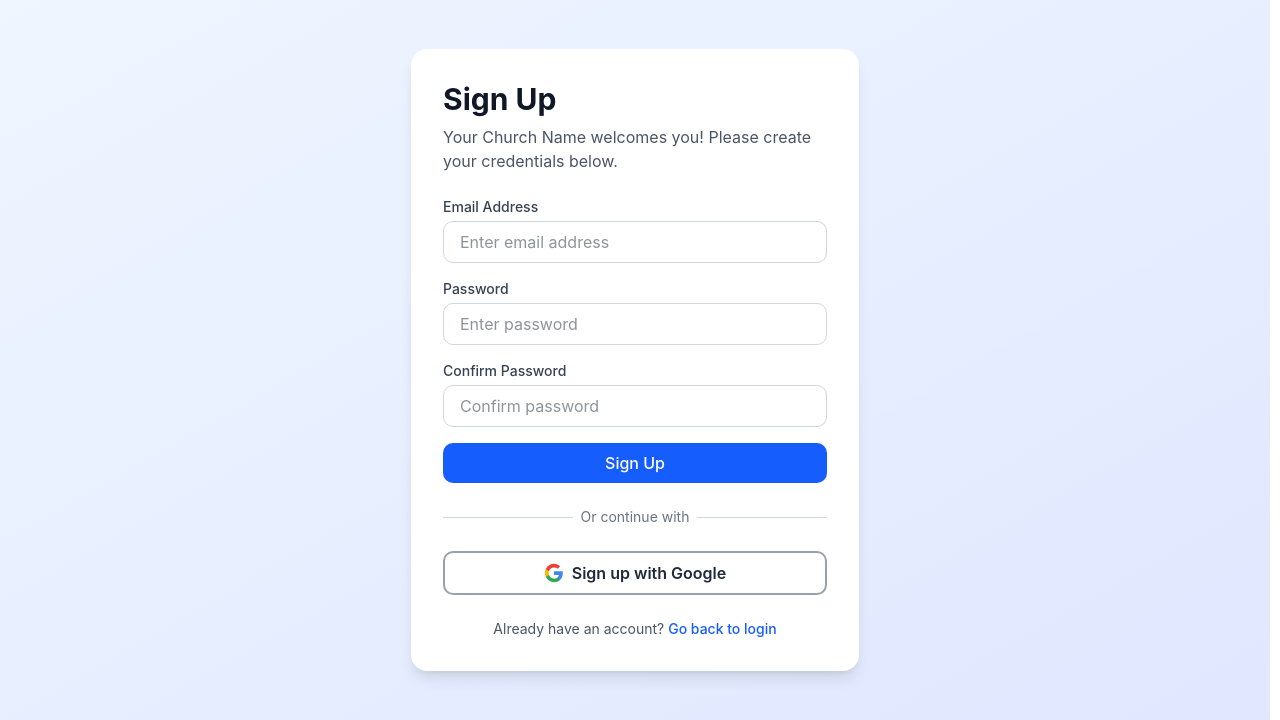
Signup page › verifies validation message when passwords do not match
The width and height of the screenshot is (1280, 720).
Step 1. Type "test@example.com" into the field with placeholder "Enter email address" → (635, 242), box [443,221,827,263]
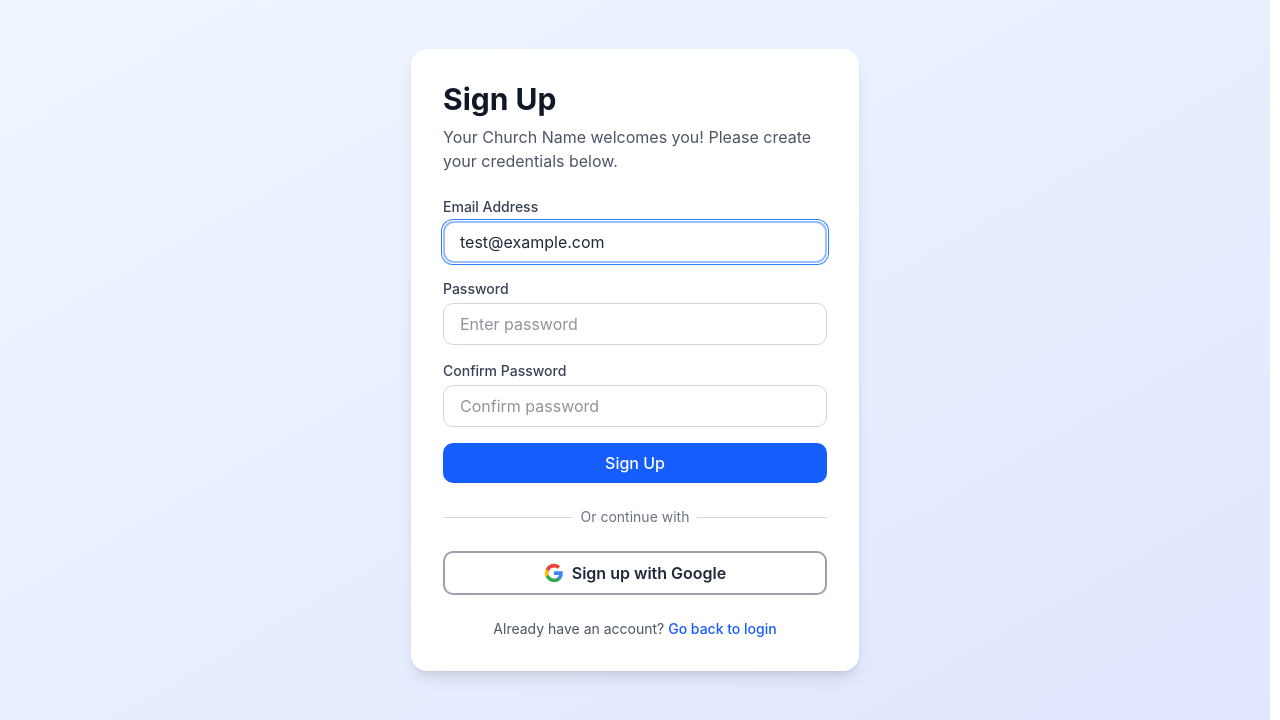
Step 2. Type "Potato123!" into the password field with placeholder "Enter password" → (635, 324), box [443,303,827,345]
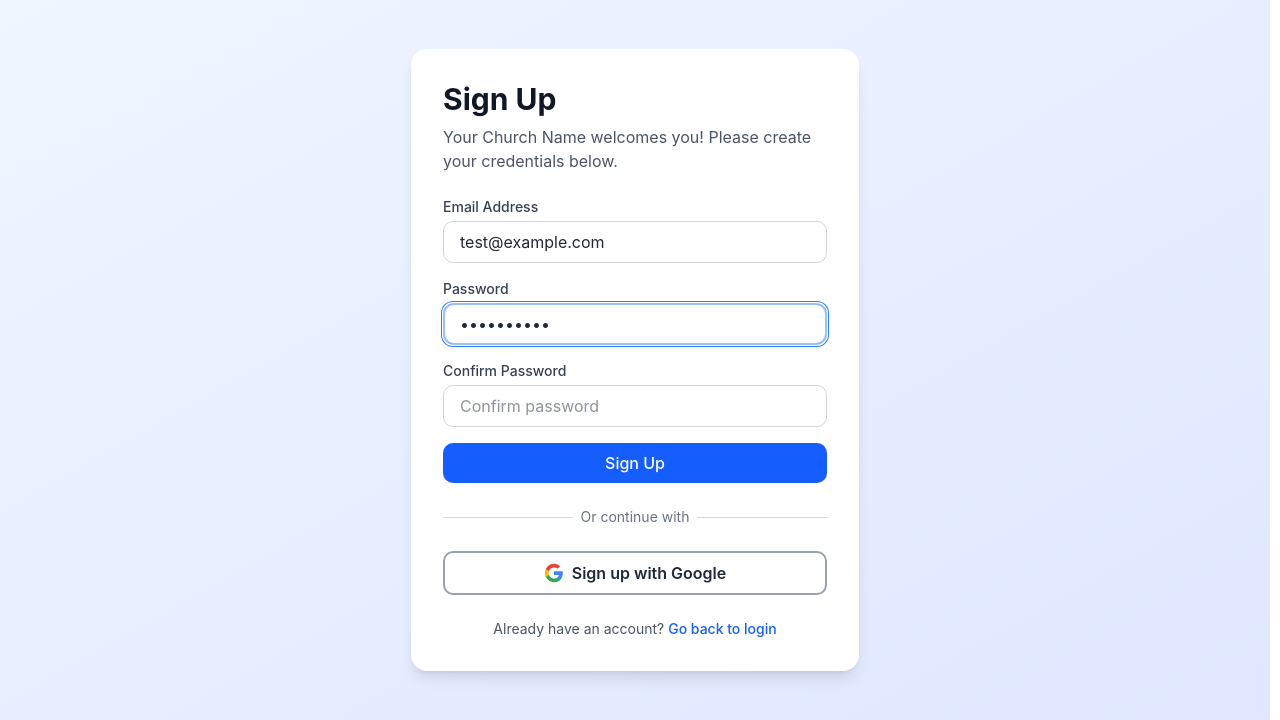
Step 3. Type "Different123!" into the password field with placeholder "Confirm password" → (635, 406), box [443,385,827,427]
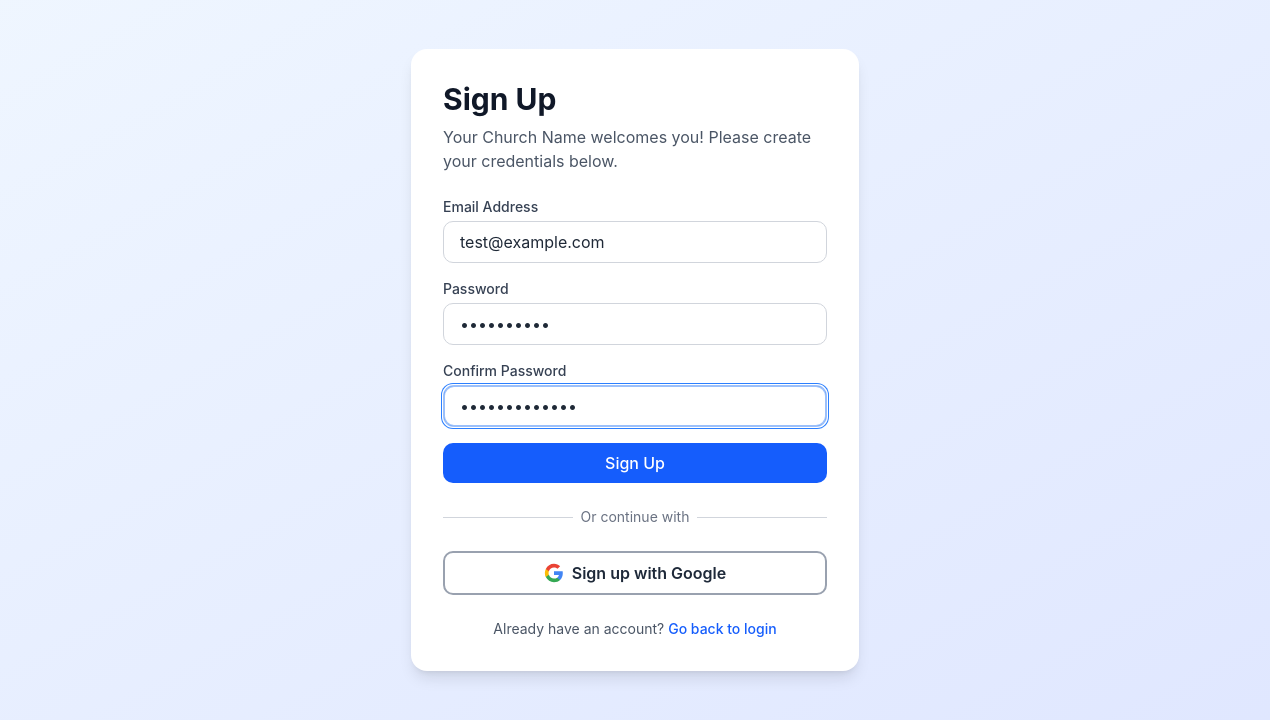
Step 4. Click the submit button → (635, 463), box [443,443,827,483]
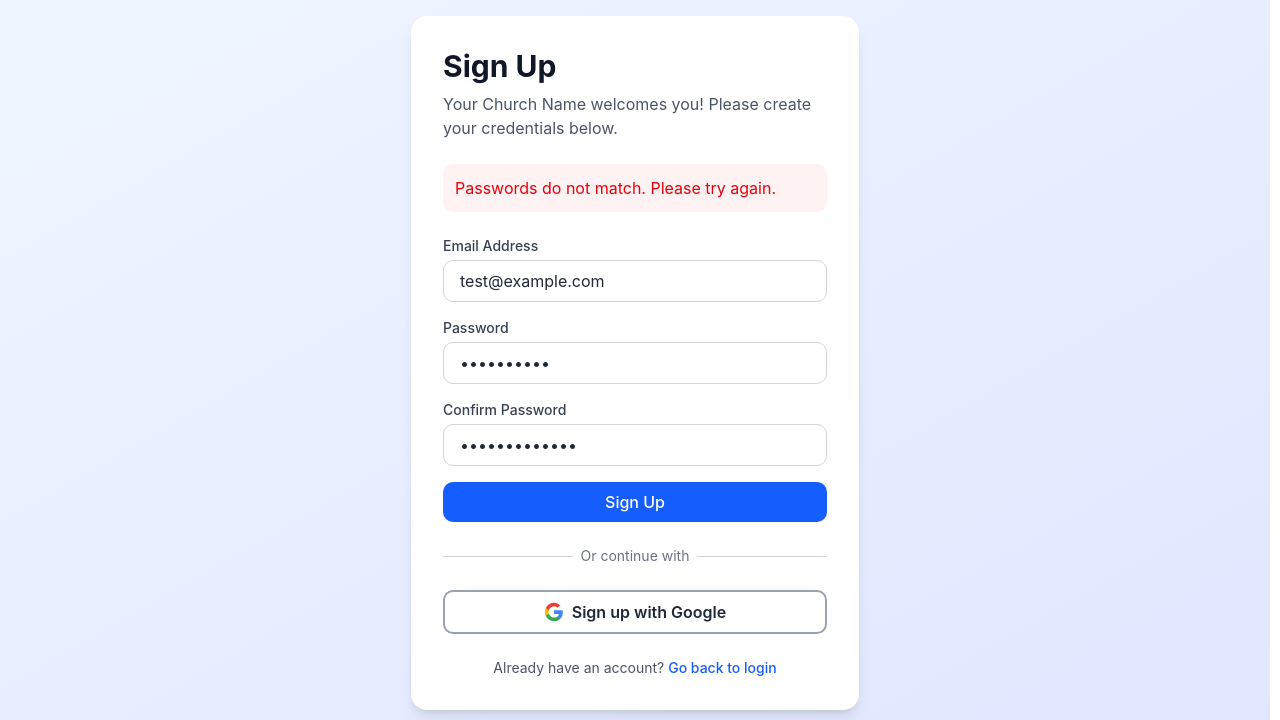
Now the text "Passwords do not match" is shown, box [455,178,776,198]
